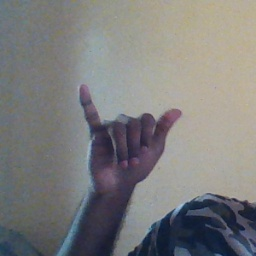J: (77, 80, 188, 198)
